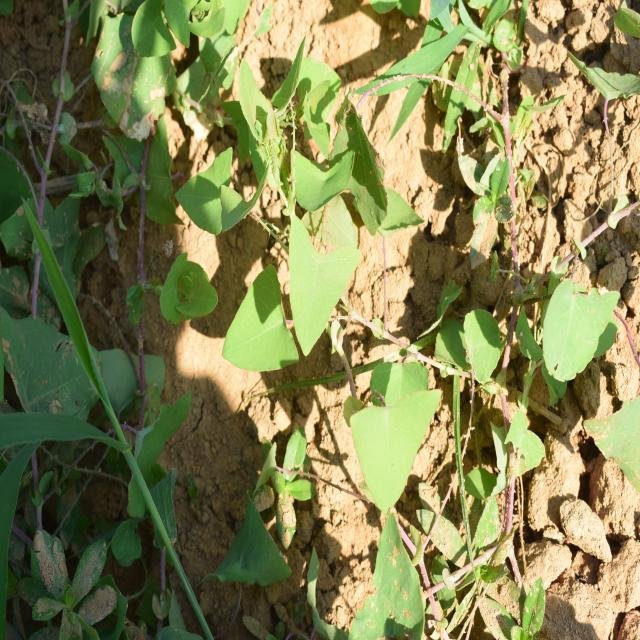Asiatic_Smartweed: (157, 124, 369, 374), (328, 355, 439, 506), (543, 261, 617, 392)
